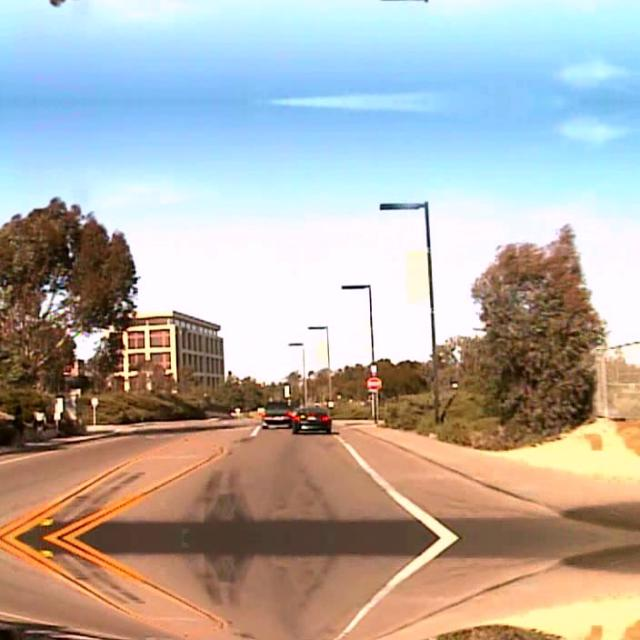stop: (366, 376, 379, 390)
